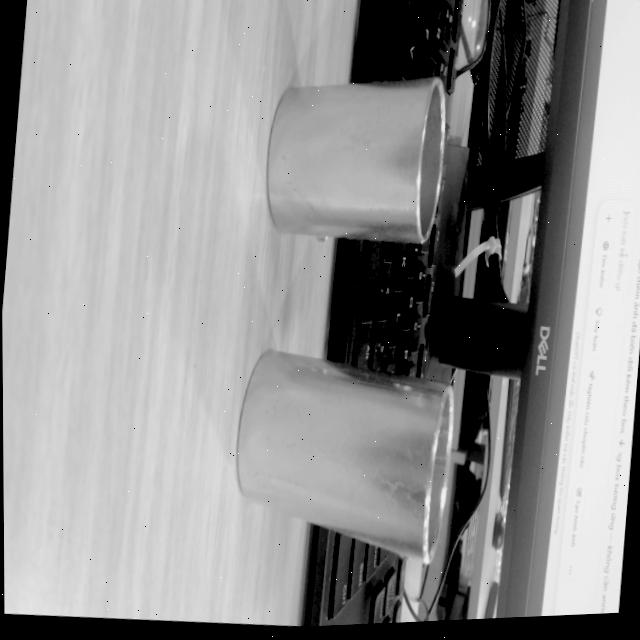Co_Lon: (219, 344, 467, 564)
Co_Nho: (264, 70, 447, 243)
